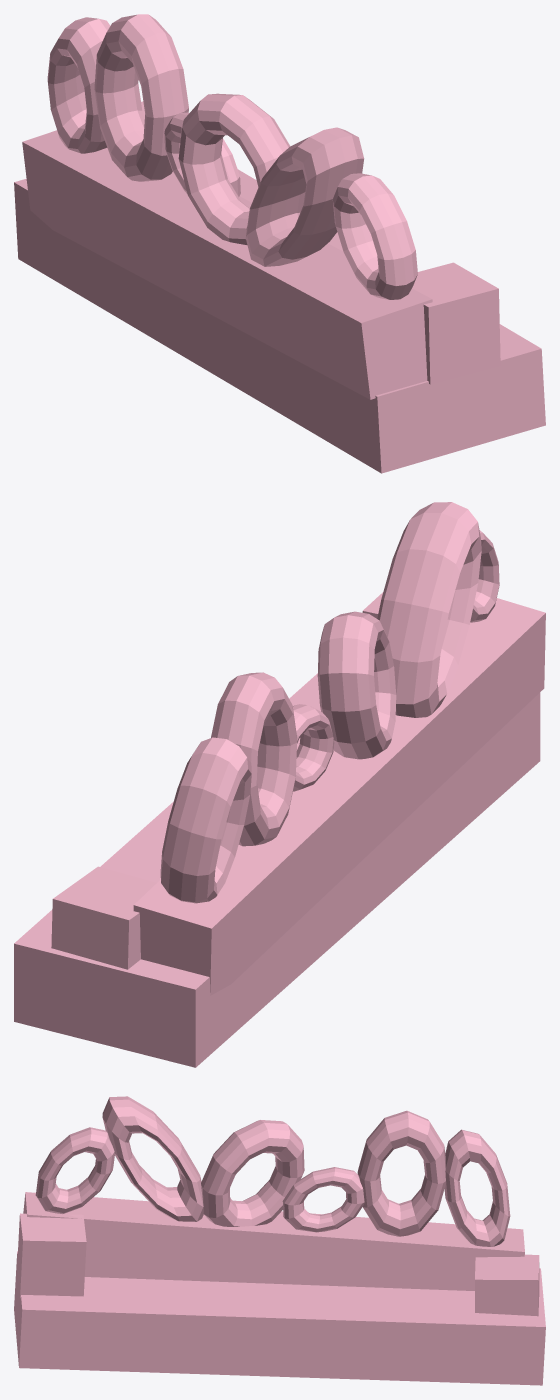
File: modelC.fbx
3 renders of one model, top to bottom at view 1: azimuth 30°, elevation 25°; view 2: azimuth 150°, elevation 25°; view 3: azimuth 270°, elevation 25°, orthographic. The views are drawn at different scales.
Parts seen in each view (by area): view 1: mesh_997983099, mesh_795516396, mesh_32685562, mesh_249111936, mesh_250445496, mesh_672843478, mesh_1115652965, mesh_438409493, mesh_18155240; view 2: mesh_997983099, mesh_795516396, mesh_249111936, mesh_438409493, mesh_250445496, mesh_32685562, mesh_1601070232, mesh_18155240, mesh_1115652965; view 3: mesh_795516396, mesh_997983099, mesh_250445496, mesh_32685562, mesh_249111936, mesh_672843478, mesh_438409493, mesh_1115652965, mesh_1601070232, mesh_18155240.
Part boxes in pixels (x1,y1,x2,y2): mesh_997983099: (22, 130, 432, 399); mesh_795516396: (14, 169, 545, 473); mesh_32685562: (94, 14, 188, 181); mesh_249111936: (245, 127, 364, 266); mesh_250445496: (178, 93, 290, 244); mesh_672843478: (412, 262, 500, 384); mesh_1115652965: (332, 173, 417, 299); mesh_438409493: (47, 17, 110, 153); mesh_18155240: (164, 112, 240, 196); mesh_997983099: (133, 598, 545, 995); mesh_795516396: (14, 673, 540, 1067); mesh_249111936: (377, 502, 481, 717); mesh_438409493: (160, 737, 251, 903); mesh_250445496: (317, 611, 396, 759); mesh_32685562: (211, 672, 297, 846); mesh_1601070232: (51, 866, 156, 969); mesh_18155240: (293, 704, 334, 791); mesh_1115652965: (470, 530, 499, 622); mesh_795516396: (14, 1251, 545, 1385); mesh_997983099: (23, 1192, 524, 1290); mesh_250445496: (201, 1120, 304, 1226); mesh_32685562: (357, 1110, 445, 1236); mesh_249111936: (102, 1096, 203, 1221); mesh_672843478: (17, 1213, 86, 1298); mesh_438409493: (444, 1129, 510, 1246); mesh_1115652965: (35, 1127, 114, 1213); mesh_1601070232: (475, 1254, 539, 1316); mesh_18155240: (282, 1167, 364, 1232).
Bounding box in the file's own units: 21.28 × 33.44 × 66.8.
